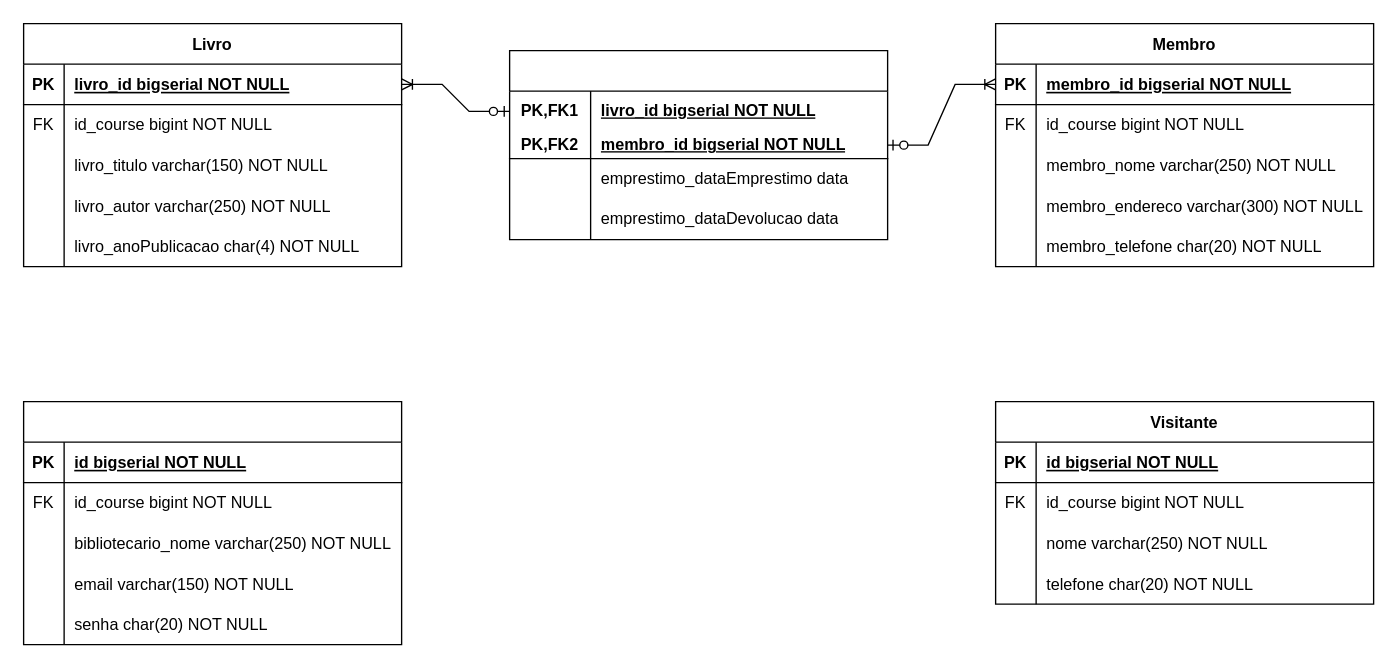
This 1397x668 diagram has some shape labels left out. The shapes that lost their labels are listed below. From the top down, each one's box as (x1, y1, x2, y2) in pixels, then its label:
(508, 49, 888, 240): Empréstimo
(22, 400, 402, 645): Bibliotecário
